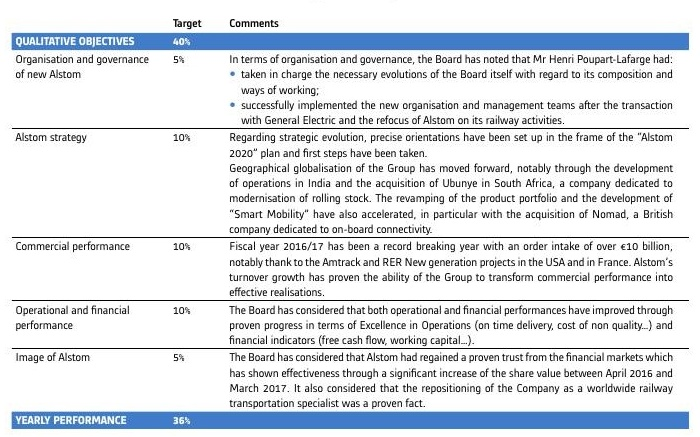table: (0, 0, 700, 437)
